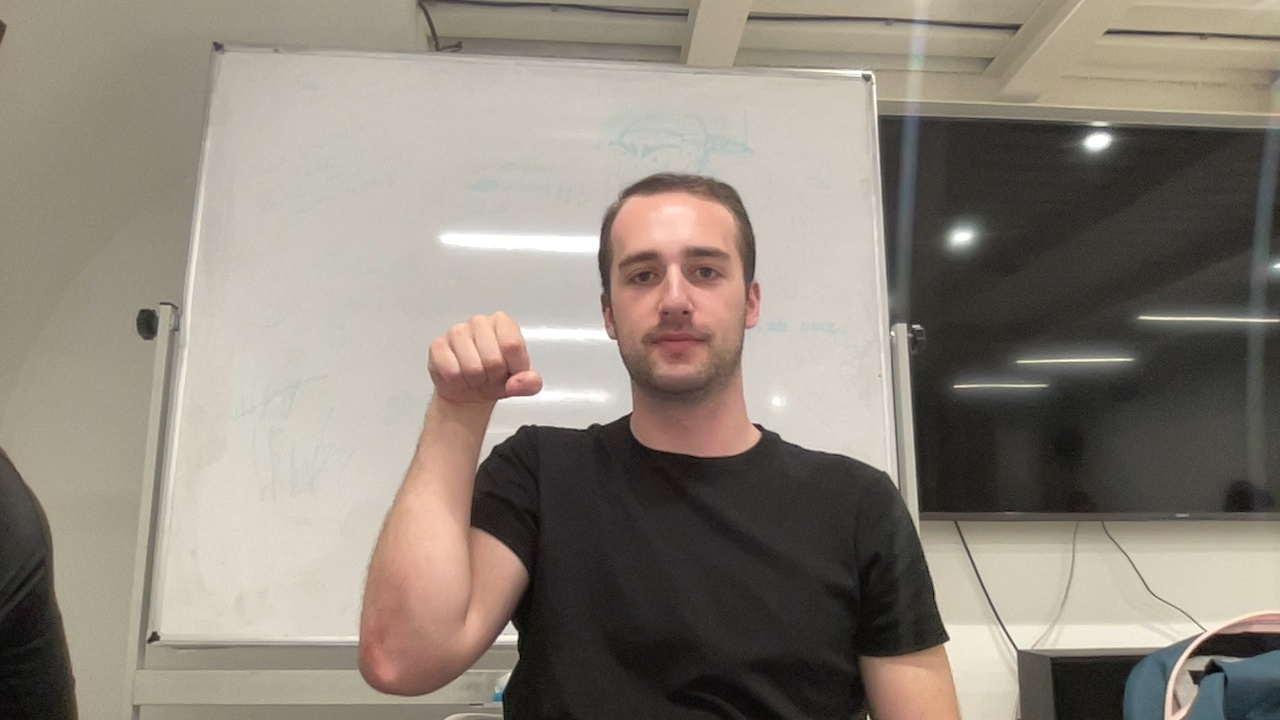Yes: (423, 305, 546, 444)
